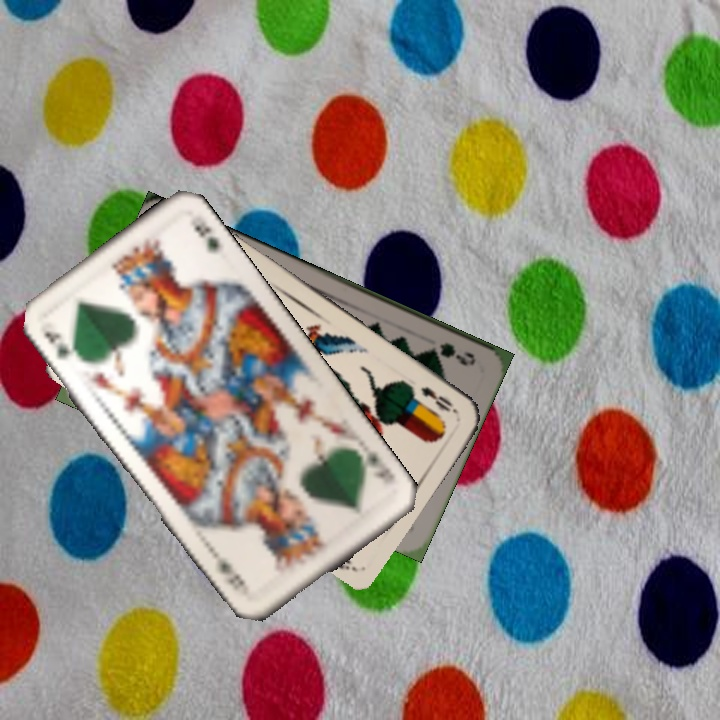EO: (416, 382, 461, 417)
G9: (424, 338, 478, 369)
GK: (40, 326, 71, 362), (367, 453, 396, 482)
